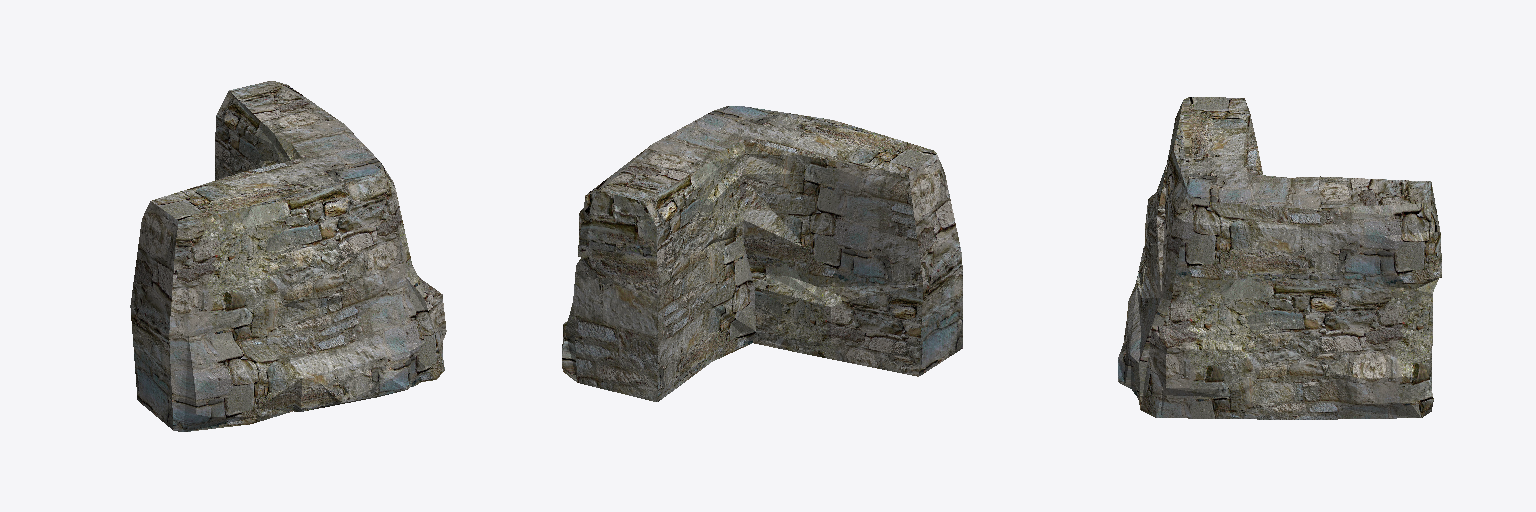
3 views of the same model, side by side, from view 1: azimuth 30°, elevation 25°; view 2: azimuth 150°, elevation 25°; view 3: azimuth 270°, elevation 25° (orthographic).
Parts seen in each view (by area): view 1: Box01; view 2: Box01; view 3: Box01.
Part boxes in pixels (left/top/right/bottom): Box01: left=130, top=81, right=446, bottom=431; Box01: left=562, top=106, right=962, bottom=401; Box01: left=1118, top=97, right=1441, bottom=419.
Size of the model in its own units: 4.1 by 2.79 by 4.1.
1 materials, 1 textured.